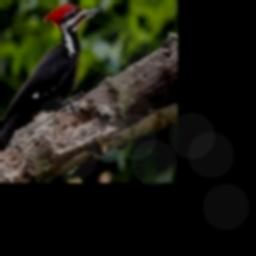Woodpecker: (0, 2, 104, 167)
